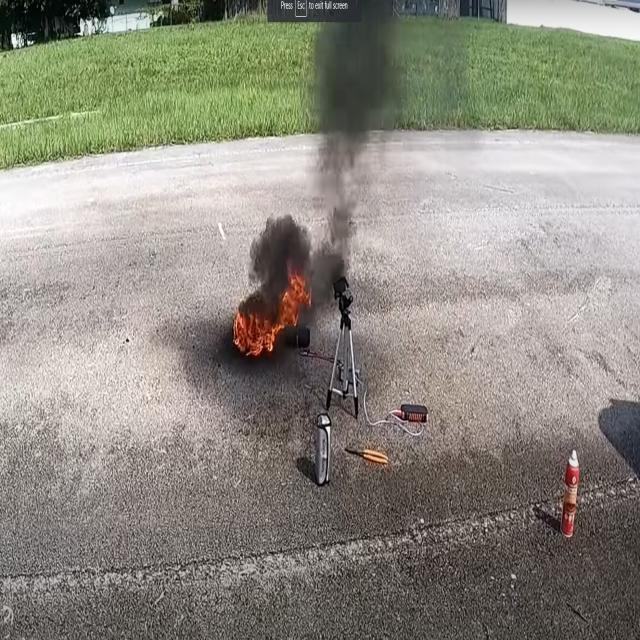Fire: (228, 268, 315, 364)
Smoke: (314, 0, 403, 299), (242, 211, 314, 264)
